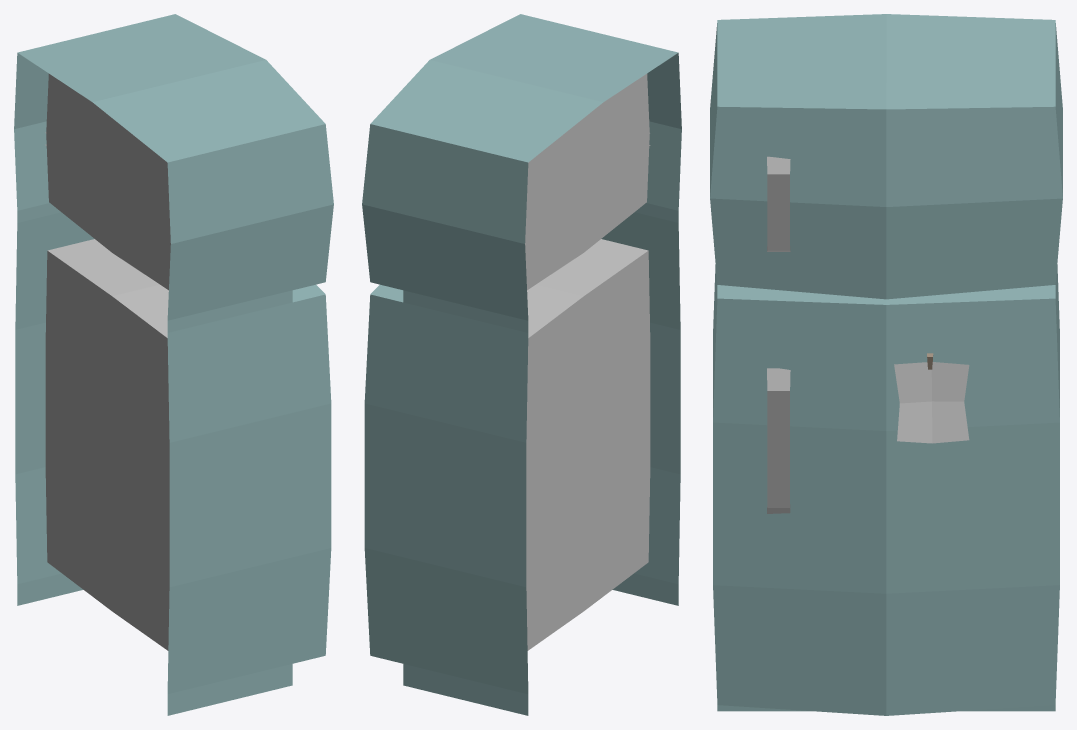
File: Fridge_Mesh.fbx
The picture shows the model from 3 angles, left to right: view 1: azimuth 30°, elevation 25°; view 2: azimuth 150°, elevation 25°; view 3: azimuth 270°, elevation 25°; orthographic projection. The views are drawn at different scales.
Visible parts, largest first — view 1: Fridge1, FridgeDoor, FreezerDoor; view 2: Fridge1, FridgeDoor, FreezerDoor; view 3: FridgeDoor, FreezerDoor, Fridge1.
Boxes of the visible parts, x1=… form: Fridge1: x1=14, y1=22, x2=295, y2=715; FridgeDoor: x1=292, y1=284, x2=331, y2=663; FreezerDoor: x1=143, y1=14, x2=333, y2=289; Fridge1: x1=400, y1=22, x2=681, y2=715; FridgeDoor: x1=364, y1=284, x2=403, y2=663; FreezerDoor: x1=362, y1=14, x2=552, y2=289; FridgeDoor: x1=713, y1=285, x2=1059, y2=715; FreezerDoor: x1=710, y1=82, x2=1062, y2=299; Fridge1: x1=710, y1=14, x2=1062, y2=711.
Size of the model in its own units: 3.25 by 9.18 by 4.67.
